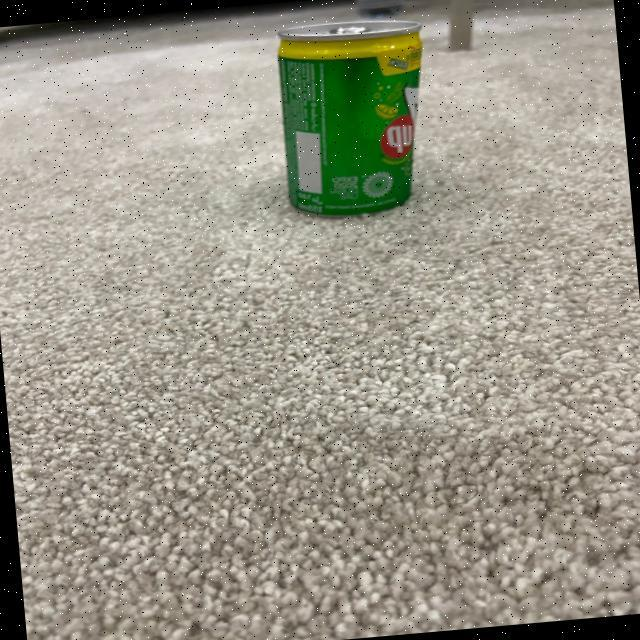debris: (264, 10, 444, 225)
